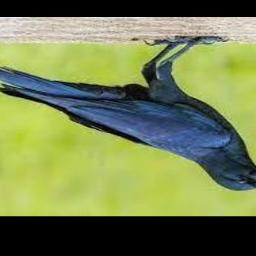Crow: (0, 37, 256, 191)
